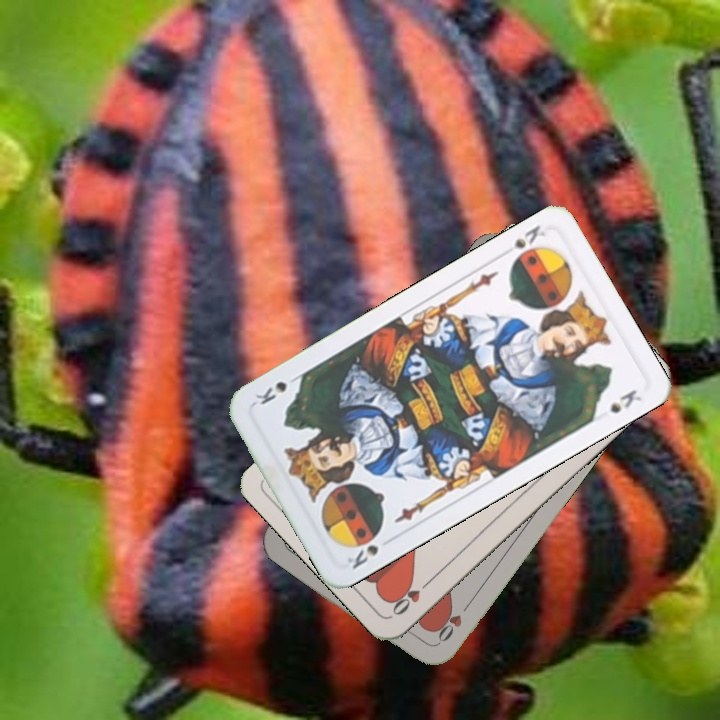HO: (430, 598, 473, 649), (386, 574, 435, 618)
SK: (497, 221, 548, 260), (343, 540, 382, 572)
